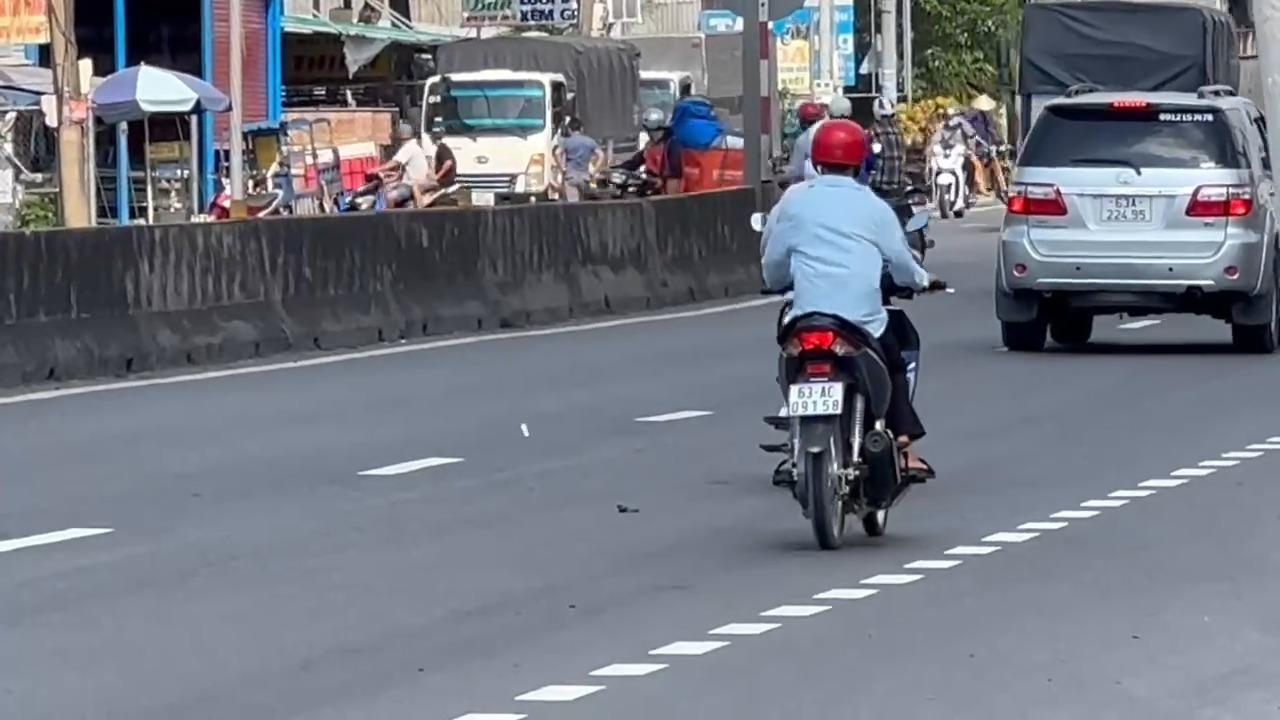bien_so: (786, 380, 844, 416), (1096, 194, 1153, 223)
